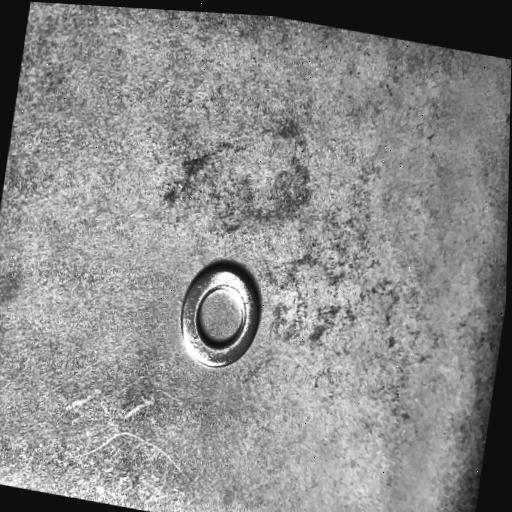Washer: (180, 258, 263, 370)
